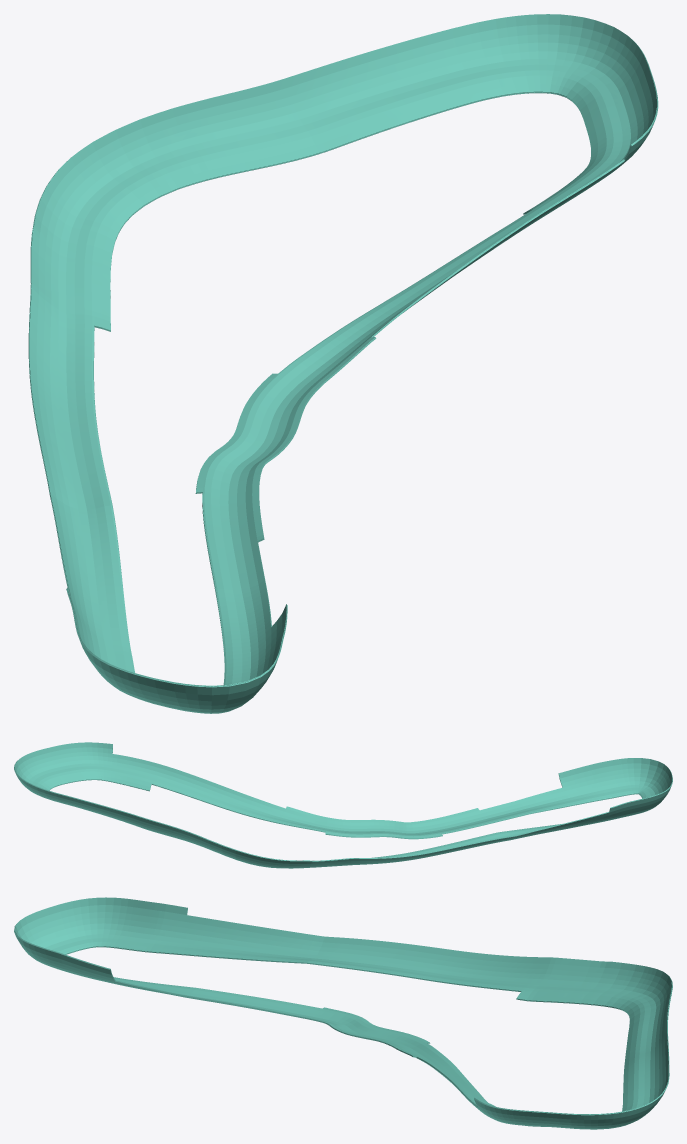
File: gyrace-circuit.glb
3 renders of one model, top to bottom at view 1: azimuth 30°, elevation 25°; view 2: azimuth 150°, elevation 25°; view 3: azimuth 270°, elevation 25°, orthographic. The views are drawn at different scales.
Visible parts, largest first — view 1: Mondza_static; view 2: Mondza_static; view 3: Mondza_static.
Part boxes in pixels (box(x1,y1,x2,y2)): Mondza_static: box(28, 14, 658, 713); Mondza_static: box(14, 742, 672, 868); Mondza_static: box(14, 897, 672, 1129).
Size of the model in its own units: 2.4 by 0.4369 by 2.25.
